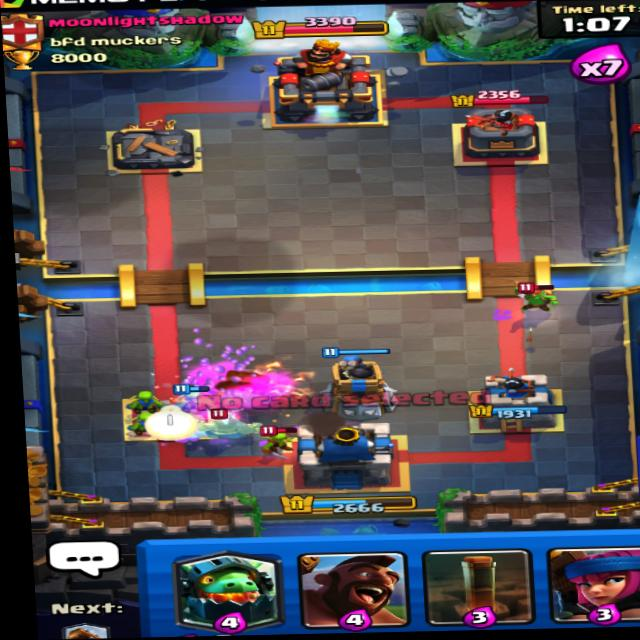Goblin: (260, 428, 310, 462)
Speargoblin: (517, 280, 559, 316)
